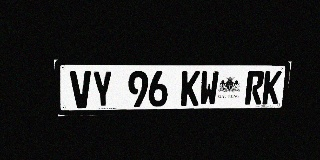6: (149, 71, 168, 107)
9: (128, 71, 148, 107)
K: (181, 71, 200, 106), (262, 71, 282, 104)
R: (245, 71, 265, 105)
V: (70, 71, 92, 108)
W: (199, 71, 219, 106)
Y: (92, 71, 113, 108)
